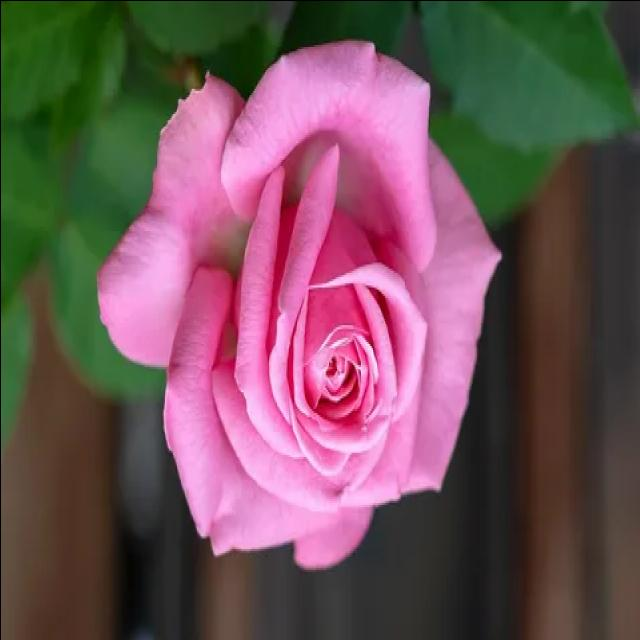rose: (94, 35, 512, 583)
